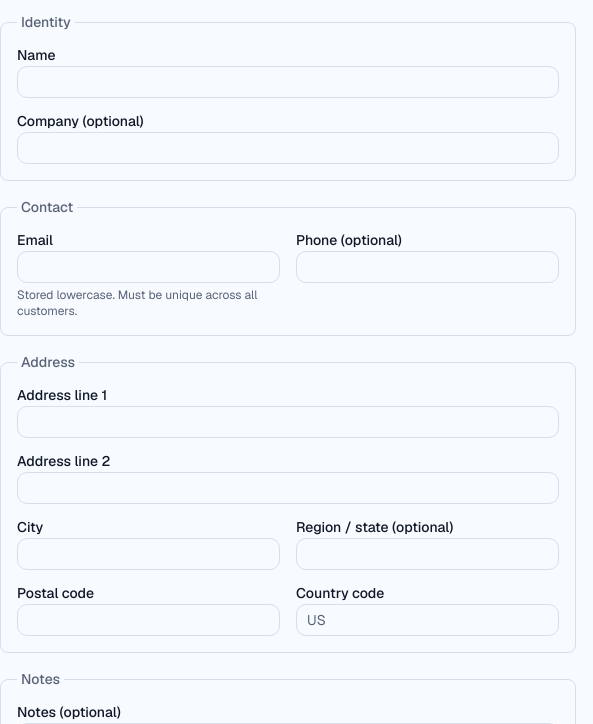
Test: CustomerForm edit mode › uppercases country input as the user types
In the field labelled "Country code": (428, 620) [296, 604, 559, 636], type "d"
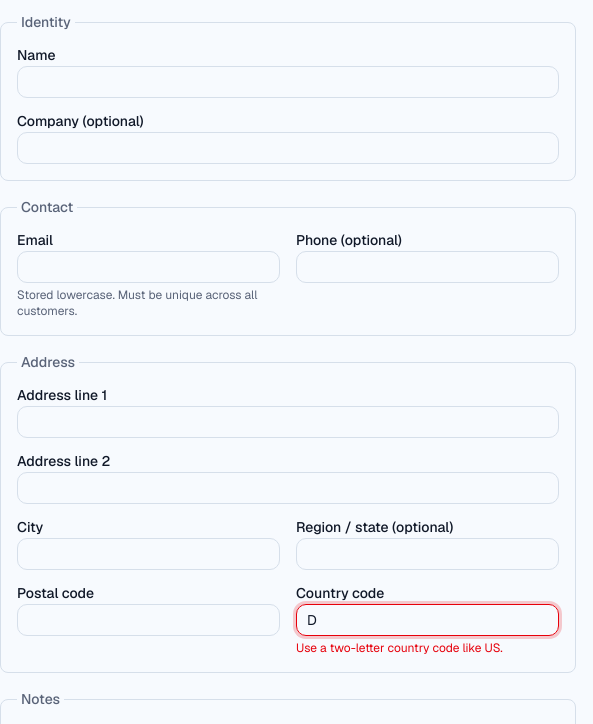
In the field labelled "Country code": (428, 620) [296, 604, 559, 636], type "e"
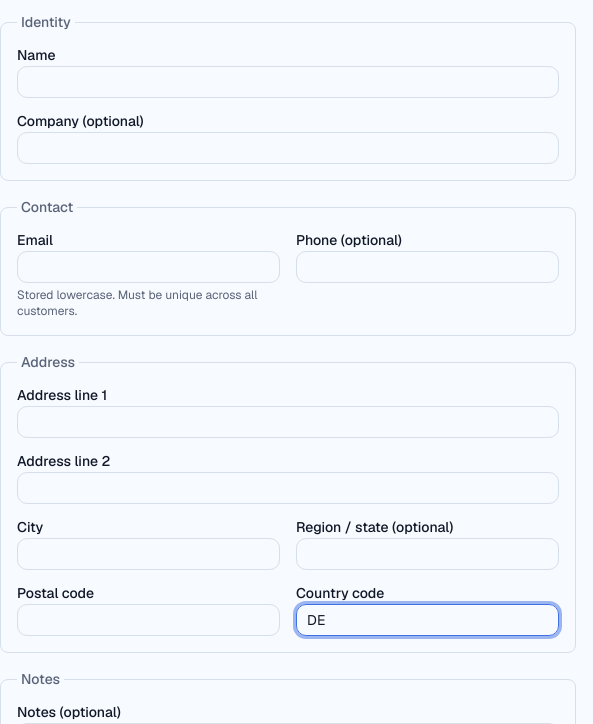
Expected: the field labelled "Country code" holds "DE", [296, 604, 559, 636]
